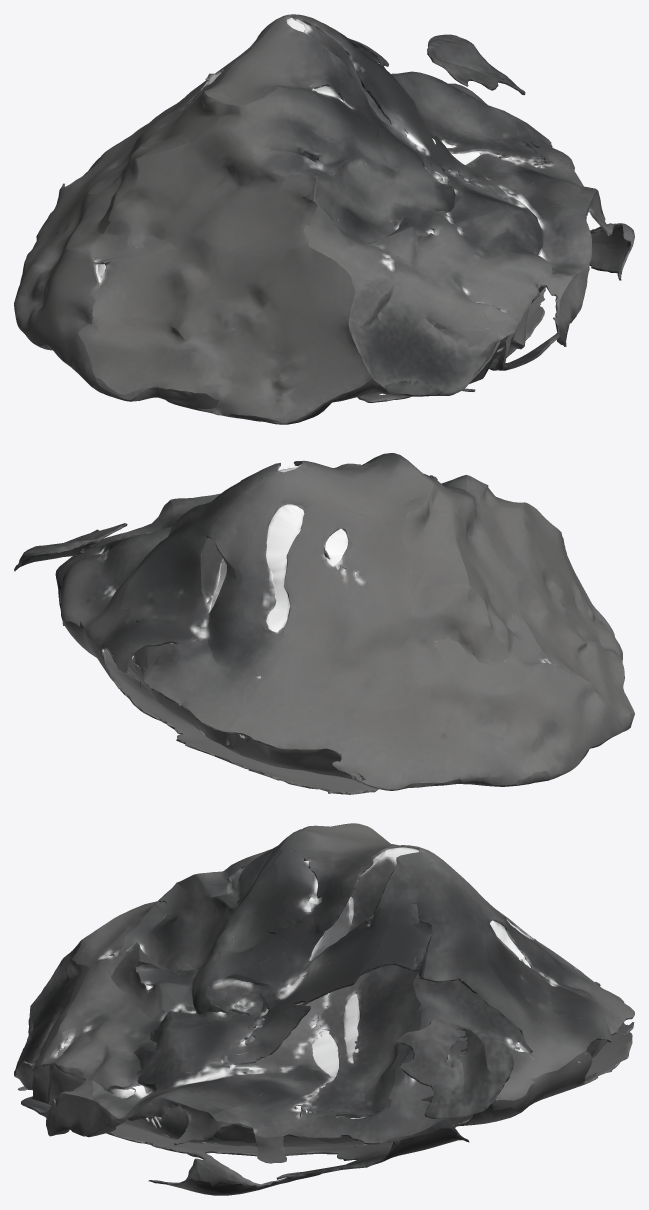
3 views of the same model, one above another, from view 1: azimuth 30°, elevation 25°; view 2: azimuth 150°, elevation 25°; view 3: azimuth 270°, elevation 25° (orthographic). The views are drawn at different scales.
Visible parts, largest first — view 1: world; view 2: world; view 3: world.
Part boxes in pixels (bbox=[...]): world: bbox=[14, 14, 634, 424]; world: bbox=[14, 453, 634, 794]; world: bbox=[14, 823, 634, 1195].
Size of the model in its own units: 0.35 by 0.1633 by 0.3483.
1 material, 1 textured.
